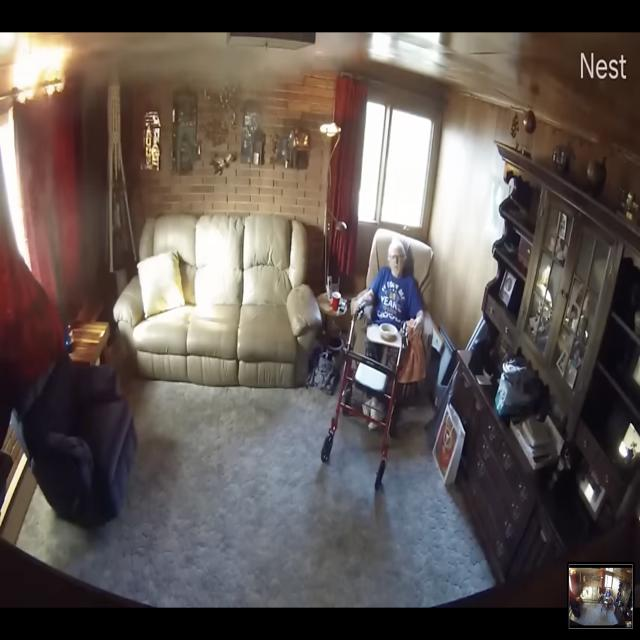Fogo: (3, 30, 118, 144)
